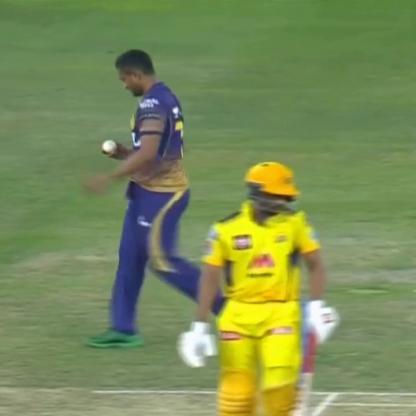ball: (97, 134, 123, 158)
